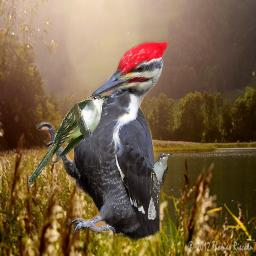Cuckoo: (26, 93, 110, 187), (147, 152, 172, 220)
Woodpecker: (36, 40, 168, 242)
